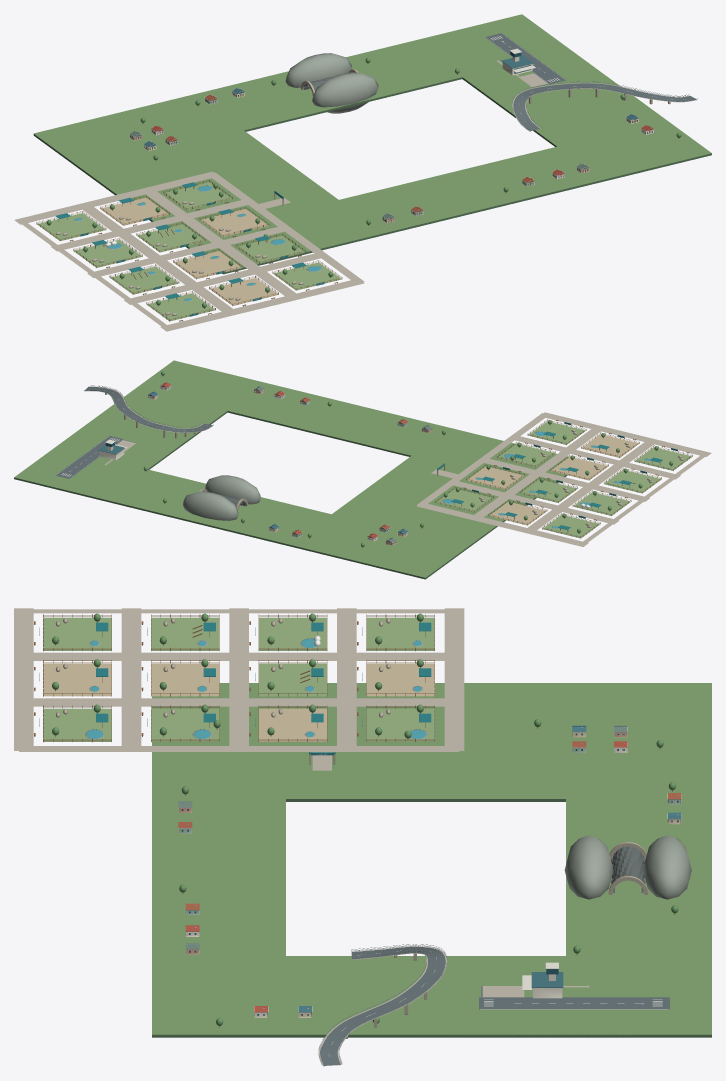
Rendered from city-world.glb.
3 views of the same model, one above another, from view 1: azimuth 30°, elevation 25°; view 2: azimuth 150°, elevation 25°; view 3: azimuth 270°, elevation 25° (orthographic). The views are drawn at different scales.
Parts seen in each view (by area): view 1: CityPaving, Zoo, TunnelMountain, Overpass, CityGround, Airport; view 2: CityPaving, Zoo, TunnelMountain, CityGround, Overpass, Airport; view 3: CityPaving, Zoo, TunnelMountain, Overpass, CityGround, Airport.
Part boxes in pixels (x1,y1,x2,y2): CityPaving: (33, 14, 711, 274); Zoo: (14, 171, 364, 331); TunnelMountain: (285, 53, 378, 113); Overpass: (512, 81, 697, 131); CityGround: (129, 57, 681, 236); Airport: (501, 48, 535, 75); CityPaving: (14, 360, 568, 579); Zoo: (416, 412, 711, 546); TunnelMountain: (183, 475, 260, 520); CityGround: (143, 371, 514, 547); Overpass: (84, 385, 213, 438); Airport: (98, 439, 126, 460); CityPaving: (152, 683, 711, 1037); Zoo: (14, 608, 464, 770); TunnelMountain: (564, 835, 691, 899); Overpass: (318, 944, 447, 1066); CityGround: (178, 719, 681, 1027); Airport: (522, 962, 563, 998).
Size of the model in its own units: 443 by 24 by 285.
